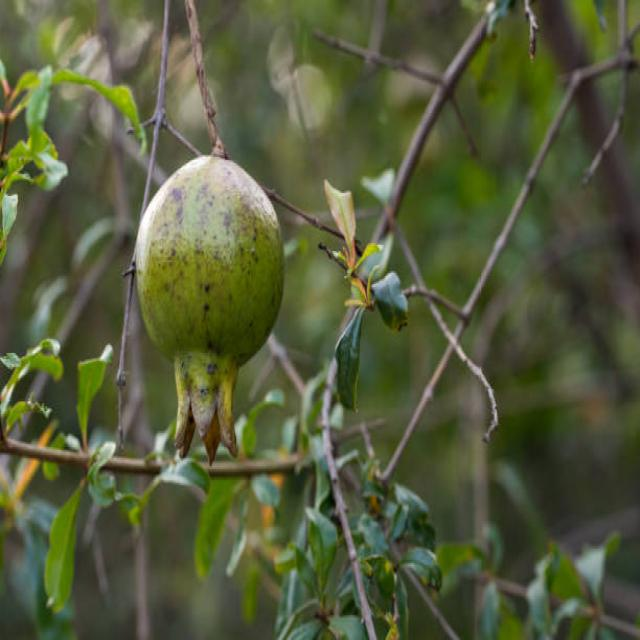Unripe: (136, 145, 282, 464)
